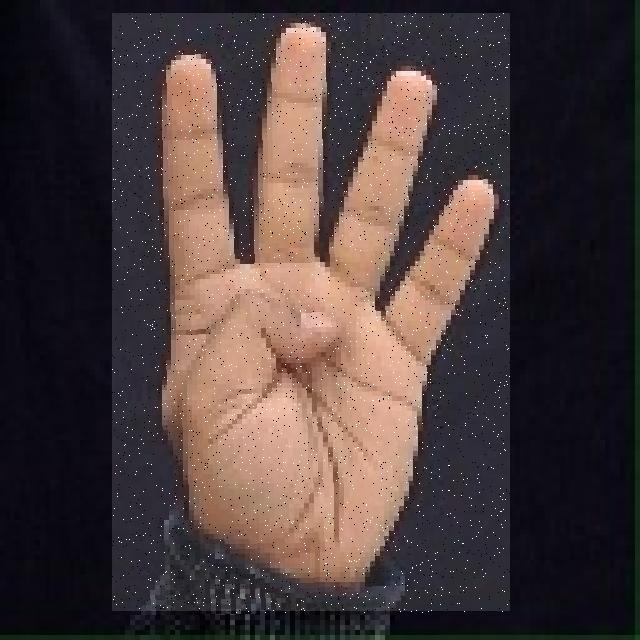Thanks: (112, 14, 510, 614)
